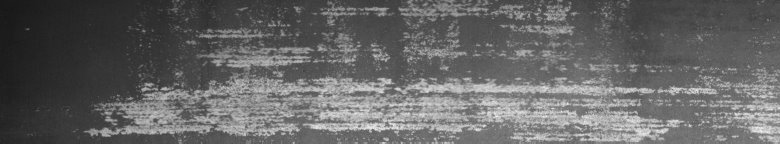kb: (77, 4, 763, 136)
